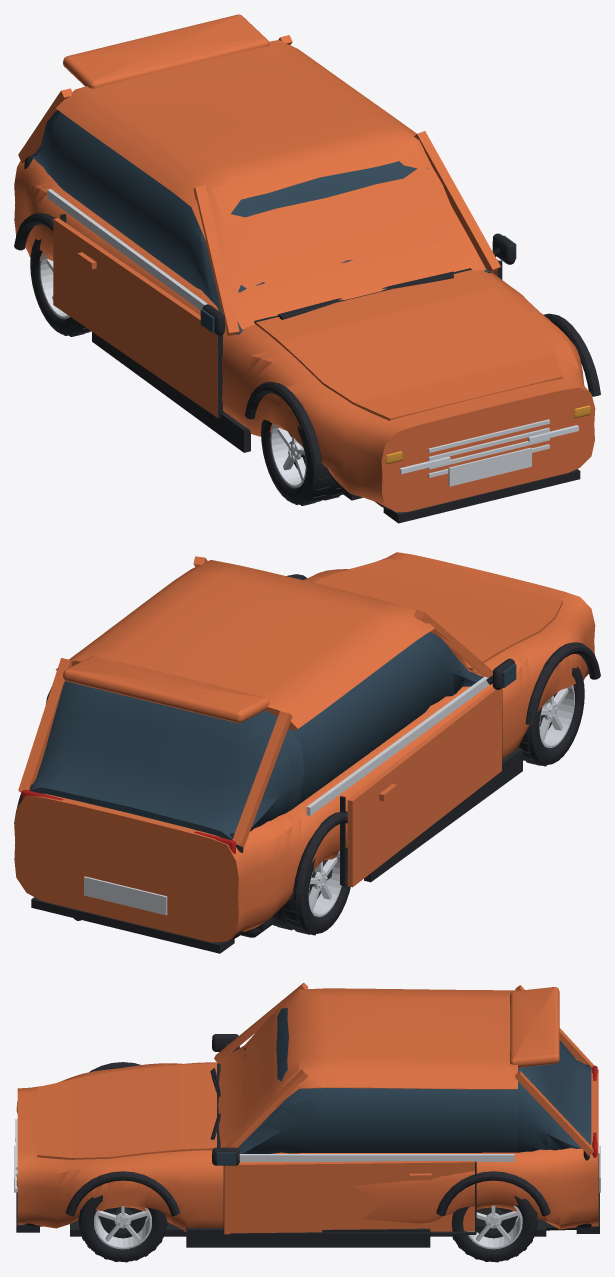
File: ThreeDoorHD.fbx
The picture shows the model from 3 angles, top to bottom: view 1: azimuth 30°, elevation 25°; view 2: azimuth 150°, elevation 25°; view 3: azimuth 270°, elevation 25°; orthographic projection. The views are drawn at different scales.
Visible parts, largest first — view 1: body_three-door-hatchback_0, body_bonnet.001, glass_three-door-hatchback_2, body_door-front-left.001, trim_three-door-hatchback_1, rim_three-door-hatchback_6, trim_wheel-front-left_trim, rim_wheel-front-left_alloy, trim_wheel-rear-left_trim, lightwhite_three-door-hatchback_4, rim_wheel-rear-left_alloy, glass_boot_glass; view 2: body_three-door-hatchback_0, glass_boot_glass, body_door-front-left.001, glass_three-door-hatchback_2, body_bonnet.001, trim_three-door-hatchback_1, rim_three-door-hatchback_6, trim_wheel-rear-left_trim, trim_wheel-front-left_trim, rim_wheel-front-left_alloy, rim_wheel-rear-left_alloy; view 3: body_three-door-hatchback_0, glass_three-door-hatchback_2, body_bonnet.001, body_door-front-right.001, trim_three-door-hatchback_1, glass_boot_glass, trim_wheel-front-right_trim, rim_three-door-hatchback_6, trim_wheel-rear-right_trim, rim_wheel-front-right_alloy, rim_wheel-rear-right_alloy.
Boxes of the visible parts, <box> form: body_three-door-hatchback_0: <box>14,14,595,512</box>; body_bonnet.001: <box>256,269,562,420</box>; glass_three-door-hatchback_2: <box>49,112,516,334</box>; body_door-front-left.001: <box>53,218,217,417</box>; trim_three-door-hatchback_1: <box>14,156,600,523</box>; rim_three-door-hatchback_6: <box>47,189,549,486</box>; trim_wheel-front-left_trim: <box>261,419,342,505</box>; rim_wheel-front-left_alloy: <box>270,423,306,487</box>; trim_wheel-rear-left_trim: <box>30,239,91,336</box>; lightwhite_three-door-hatchback_4: <box>399,425,578,474</box>; rim_wheel-rear-left_alloy: <box>40,253,69,318</box>; glass_boot_glass: <box>30,110,61,188</box>; body_three-door-hatchback_0: <box>14,552,595,942</box>; glass_boot_glass: <box>29,681,304,839</box>; body_door-front-left.001: <box>347,687,501,887</box>; glass_three-door-hatchback_2: <box>291,632,516,809</box>; body_bonnet.001: <box>314,558,562,670</box>; trim_three-door-hatchback_1: <box>14,574,600,953</box>; rim_three-door-hatchback_6: <box>84,676,489,915</box>; trim_wheel-rear-left_trim: <box>272,847,350,935</box>; trim_wheel-front-left_trim: <box>518,666,584,766</box>; rim_wheel-front-left_alloy: <box>539,685,574,747</box>; rim_wheel-rear-left_alloy: <box>308,851,341,916</box>; body_three-door-hatchback_0: <box>17,983,598,1231</box>; glass_three-door-hatchback_2: <box>217,1008,517,1165</box>; body_bonnet.001: <box>37,1063,216,1159</box>; body_door-front-right.001: <box>224,1161,475,1234</box>; trim_three-door-hatchback_1: <box>16,1034,599,1247</box>; glass_boot_glass: <box>517,1040,591,1152</box>; trim_wheel-front-right_trim: <box>78,1195,167,1262</box>; rim_three-door-hatchback_6: <box>14,1120,600,1192</box>; trim_wheel-rear-right_trim: <box>451,1195,537,1262</box>; rim_wheel-front-right_alloy: <box>94,1206,151,1249</box>; rim_wheel-rear-right_alloy: <box>466,1205,522,1249</box>.
Size of the model in its own units: 218 by 163 by 453.
